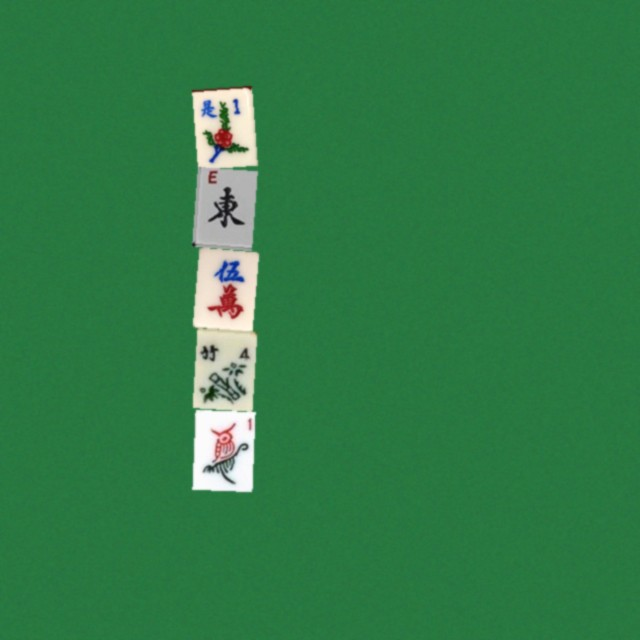tile: (192, 85, 252, 165), (192, 166, 252, 246), (192, 247, 252, 327), (192, 328, 252, 408), (192, 409, 252, 489)
